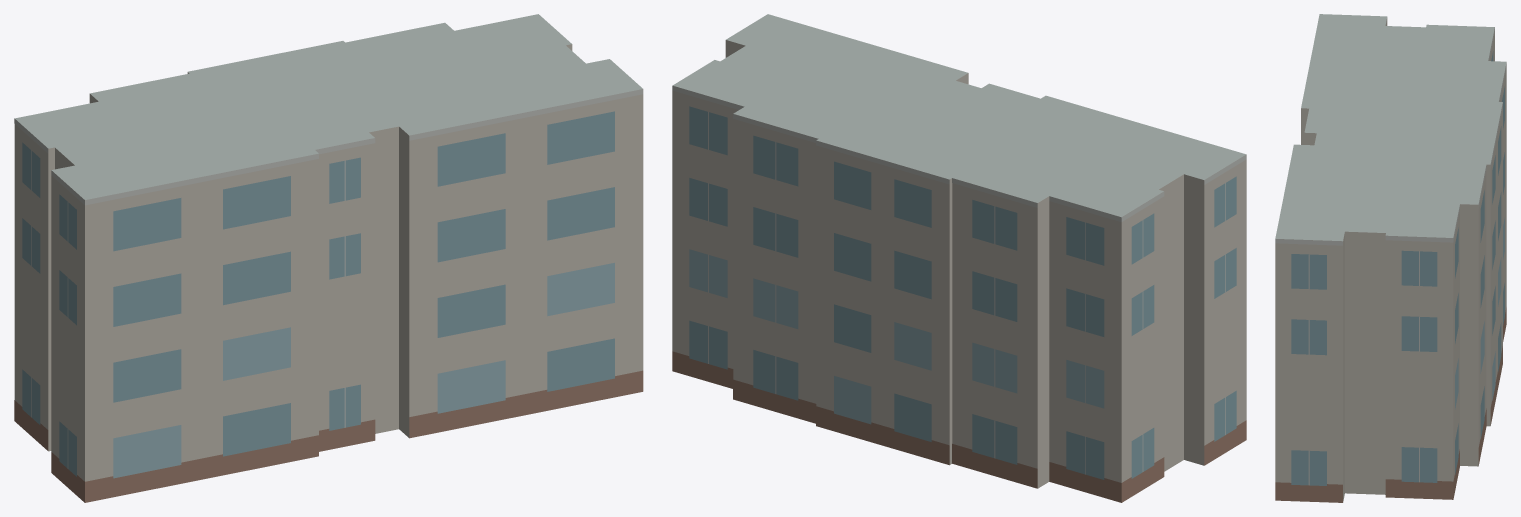
File: survey-upis-32592937.glb
3 views of the same model, side by side, from view 1: azimuth 30°, elevation 25°; view 2: azimuth 150°, elevation 25°; view 3: azimuth 270°, elevation 25° (orthographic). The views are drawn at different scales.
Parts seen in each view (by area): view 1: survey-upis-32592937.tmp; view 2: survey-upis-32592937.tmp; view 3: survey-upis-32592937.tmp.
Part boxes in pixels (left/top/right/bottom): survey-upis-32592937.tmp: left=14, top=14, right=643, bottom=502; survey-upis-32592937.tmp: left=672, top=14, right=1246, bottom=502; survey-upis-32592937.tmp: left=1275, top=14, right=1506, bottom=502.
Bounding box in the file's own units: 26.16 × 14.05 × 11.27.
